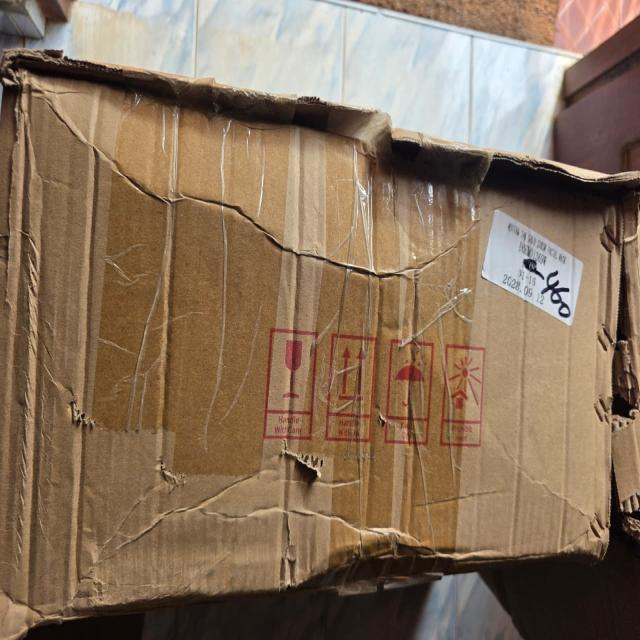carton_box: (0, 32, 640, 635)
fragile_label: (267, 322, 318, 444)
keep_dry_label: (384, 322, 432, 450)
package_damage: (0, 34, 640, 205), (601, 231, 640, 572), (269, 435, 338, 498), (146, 446, 194, 506), (64, 387, 108, 447)
protect_from_heat_label: (439, 323, 491, 463)
this_side_up_label: (329, 324, 371, 445)
